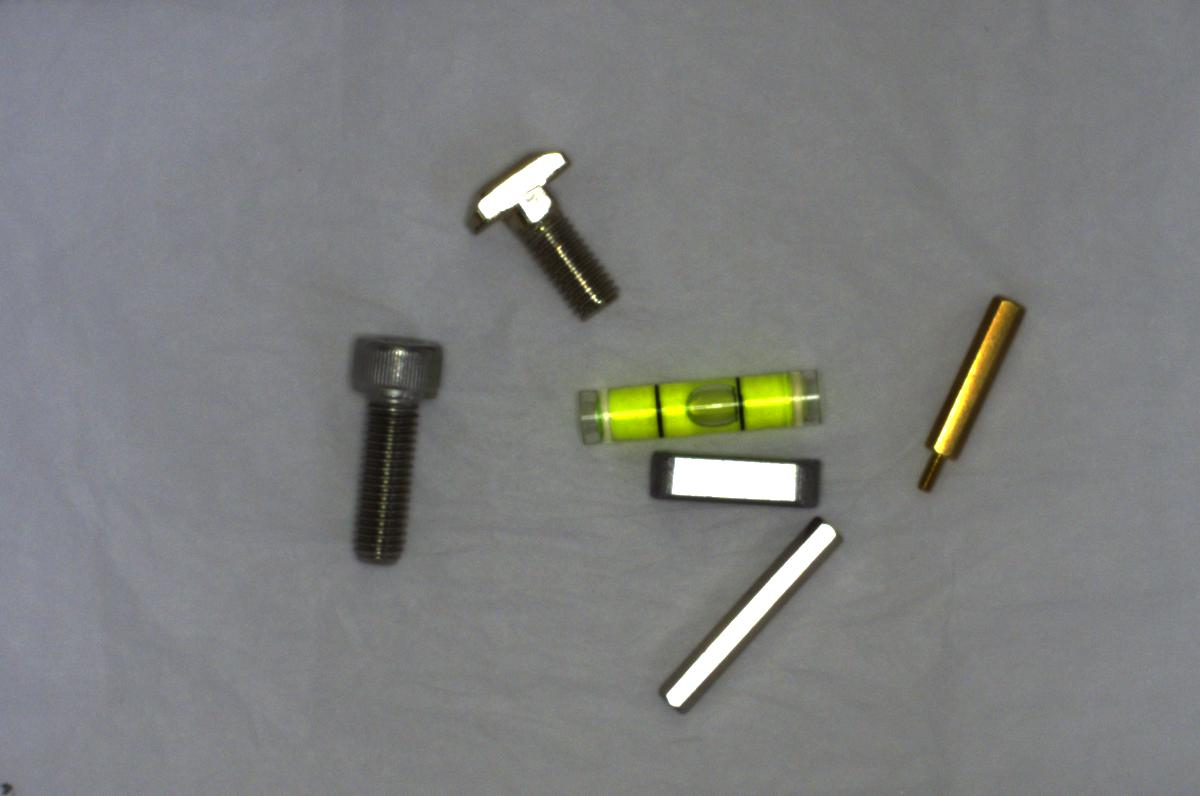Double hexagonal column: (641, 513, 852, 728)
Hexagon pillar: (901, 290, 1042, 503)
Hexagon screw: (334, 324, 453, 571)
Horizontal bubble: (564, 353, 832, 449)
Keybar: (638, 442, 830, 514)
T-shaped screw: (460, 131, 629, 330)
